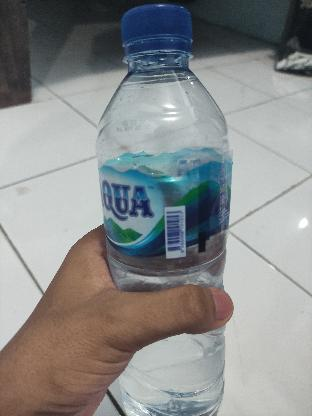Plastic Bottle: (78, 4, 256, 416)
